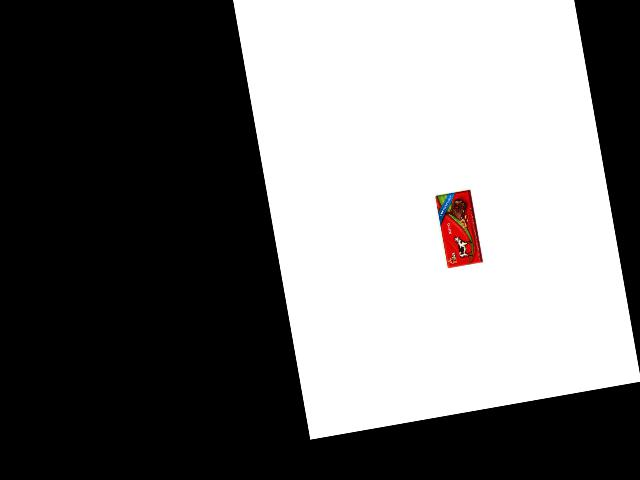chocolate: (434, 190, 482, 271)
